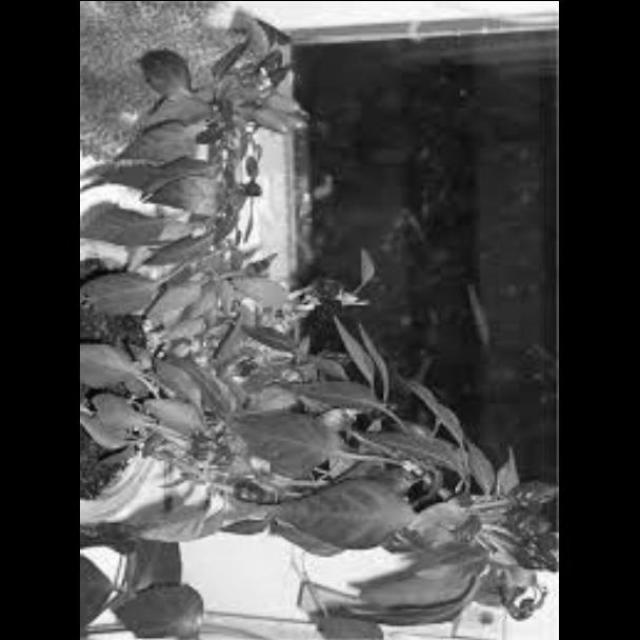hot pepper: (498, 471, 560, 586), (173, 389, 235, 474), (370, 518, 428, 562), (219, 468, 269, 510), (250, 243, 293, 284), (299, 272, 345, 310), (234, 347, 274, 388), (259, 44, 295, 88), (368, 396, 408, 433), (309, 345, 360, 373), (239, 177, 273, 206)
